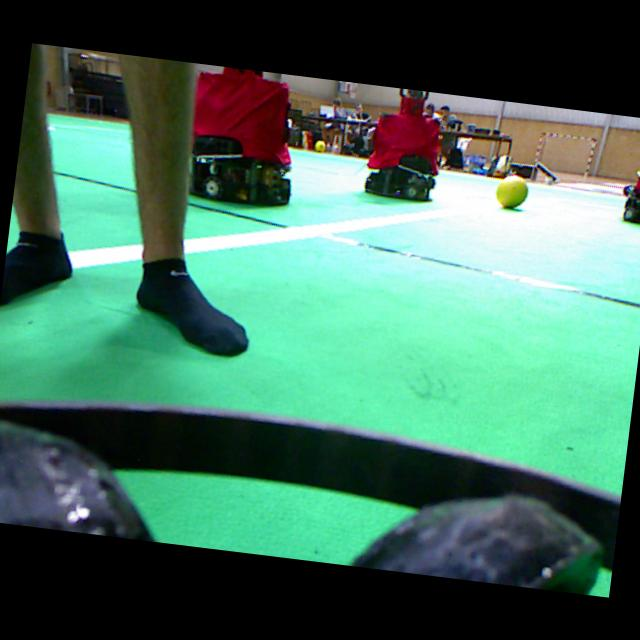ball: (495, 174, 527, 207)
